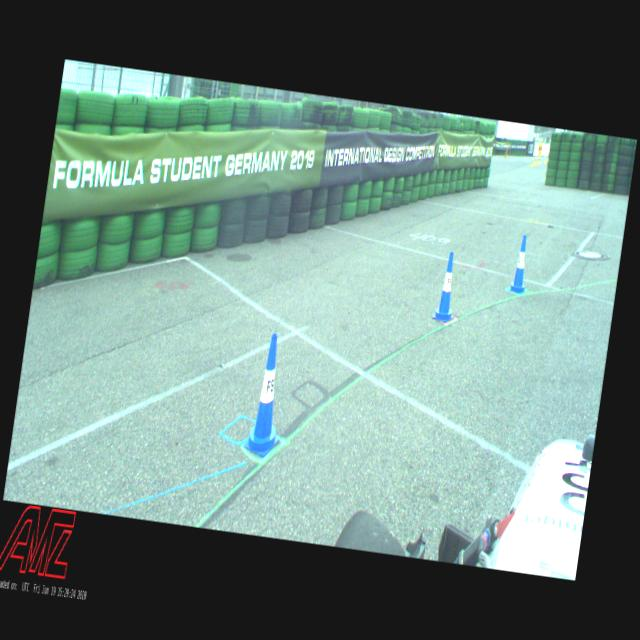blue_cone: (242, 331, 294, 459), (432, 251, 462, 324), (508, 234, 532, 295)
yellow_cone: (531, 158, 534, 167), (539, 156, 541, 164), (537, 158, 539, 165), (534, 158, 536, 165), (544, 156, 546, 163)
